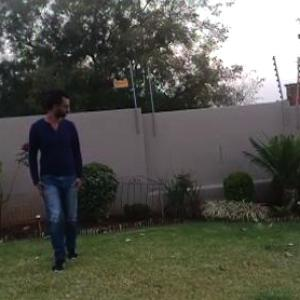follow: (32, 85, 86, 266)
